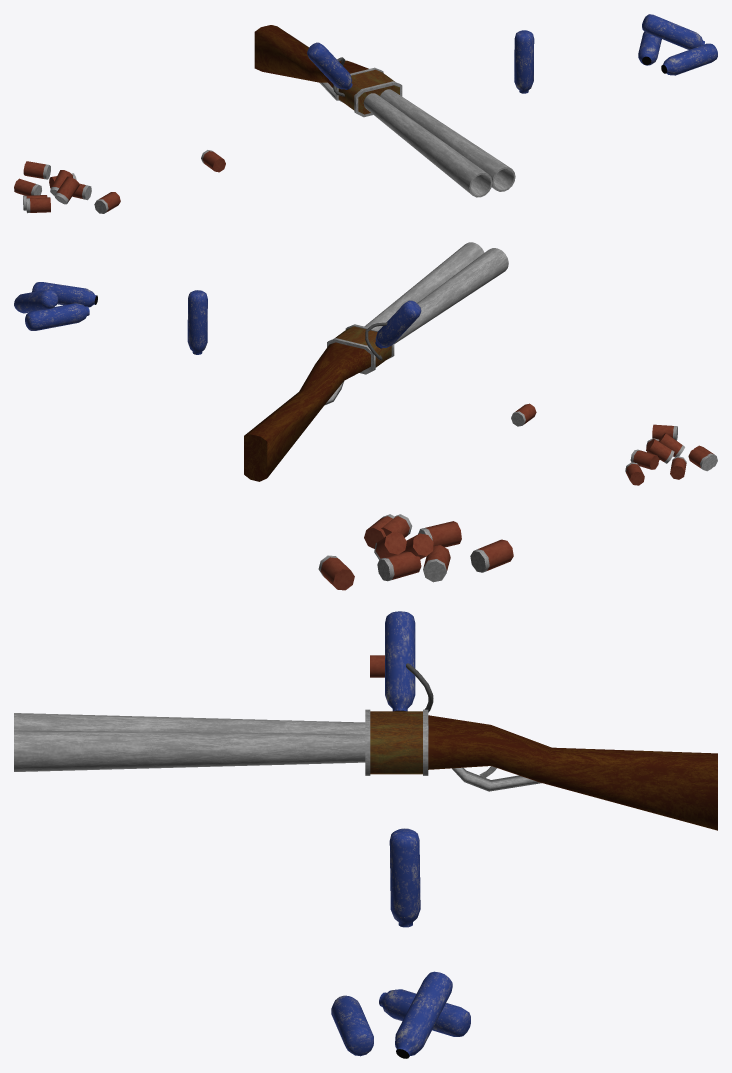
The model's file is shotgun.fbx.
3 renders of one model, top to bottom at view 1: azimuth 30°, elevation 25°; view 2: azimuth 150°, elevation 25°; view 3: azimuth 270°, elevation 25°, orthographic. The views are drawn at different scales.
Visible parts, largest first — view 1: shotgun, GasStash, ShotgunEmmostash, Gas, ShotgunEmmo; view 2: shotgun, GasStash, ShotgunEmmostash, Gas; view 3: shotgun, ShotgunEmmostash, GasStash, Gas.
Boxes of the visible parts, <box> form: shotgun: <box>254,25,515,197</box>; GasStash: <box>638,14,717,75</box>; ShotgunEmmostash: <box>14,161,120,213</box>; Gas: <box>514,30,534,93</box>; ShotgunEmmo: <box>201,150,225,172</box>; shotgun: <box>244,242,508,481</box>; GasStash: <box>14,282,97,330</box>; ShotgunEmmostash: <box>625,424,717,485</box>; Gas: <box>187,290,207,354</box>; shotgun: <box>14,611,717,830</box>; ShotgunEmmostash: <box>318,514,513,590</box>; GasStash: <box>331,971,470,1058</box>; Gas: <box>389,828,420,927</box>.
Size of the model in its own units: 2.75 by 0.4374 by 1.58.
